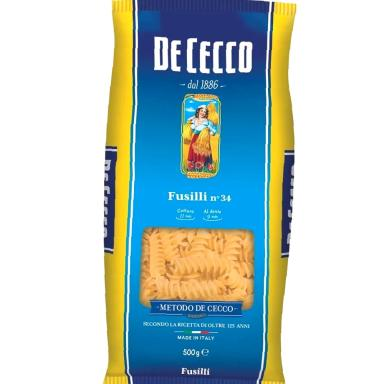pasta package: (105, 0, 295, 383)
